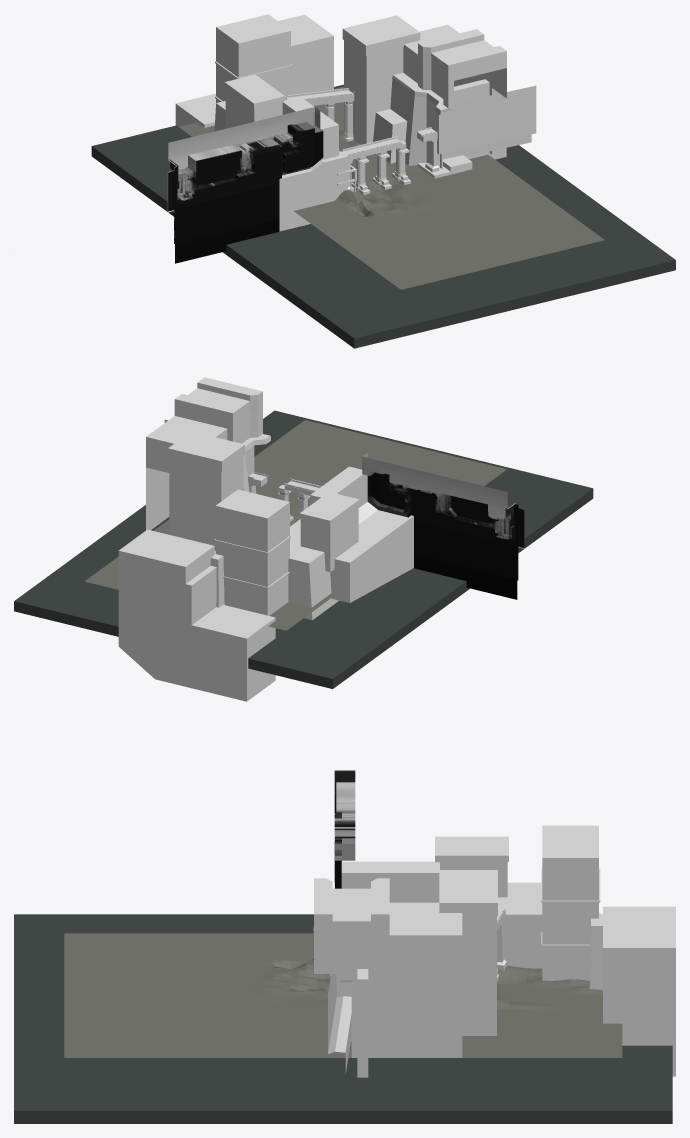
The model's file is p1 blockout test.fbx.
3 views of the same model, one above another, from view 1: azimuth 30°, elevation 25°; view 2: azimuth 150°, elevation 25°; view 3: azimuth 270°, elevation 25° (orthographic). The views are drawn at different scales.
Visible parts, largest first — view 1: water, wet land, Plane.004, Cube.027, Cube.012, Cube.024, Cube, Cube.013, Cube.015, Cube.020, Cube.014, Cube.016 (+4 smaller); view 2: water, Plane.004, Cube.020, wet land, Cube.013, Cube.024, Cube.027, Cube.012, Cube, Cube.015, Cube.017, Cube.014 (+1 smaller); view 3: water, wet land, Cube.027, Cube.013, Cube.024, Cube.012, Cube.020, Cube.017, Cube.014, Cube.015, Plane.004, Cube.040 (+1 smaller).
Boxes of the visible parts, <box> form: water: <box>91,84,675,348</box>; wet land: <box>179,86,604,289</box>; Plane.004: <box>167,107,323,263</box>; Cube.027: <box>390,24,536,168</box>; Cube.012: <box>342,15,420,144</box>; Cube.024: <box>215,14,292,102</box>; Cube: <box>279,151,347,231</box>; Cube.013: <box>278,14,333,95</box>; Cube.015: <box>224,74,284,128</box>; Cube.020: <box>175,53,333,127</box>; Cube.014: <box>282,96,338,160</box>; Cube.016: <box>373,109,407,163</box>; water: <box>14,410,593,688</box>; Plane.004: <box>362,453,524,599</box>; Cube.020: <box>118,566,275,701</box>; wet land: <box>84,420,506,630</box>; Cube.013: <box>118,529,214,662</box>; Cube.024: <box>214,489,290,615</box>; Cube.027: <box>146,377,270,530</box>; Cube.012: <box>168,431,244,550</box>; Cube: <box>330,502,413,602</box>; Cube.015: <box>299,492,359,572</box>; Cube.017: <box>288,519,338,620</box>; Cube.014: <box>310,466,367,507</box>; water: <box>14,914,672,1123</box>; wet land: <box>64,933,622,1057</box>; Cube.027: <box>313,878,462,1073</box>; Cube.013: <box>603,906,675,1068</box>; Cube.024: <box>541,825,600,980</box>; Cube.012: <box>439,870,497,1035</box>; Cube.020: <box>603,969,675,1076</box>; Cube.017: <box>498,882,542,968</box>; Cube.014: <box>341,861,439,902</box>; Cube.015: <box>435,836,508,897</box>; Plane.004: <box>334,770,355,888</box>; Cube.040: <box>357,969,368,1077</box>.
Bounding box in the file's own units: 9604 × 3027 × 8241.
